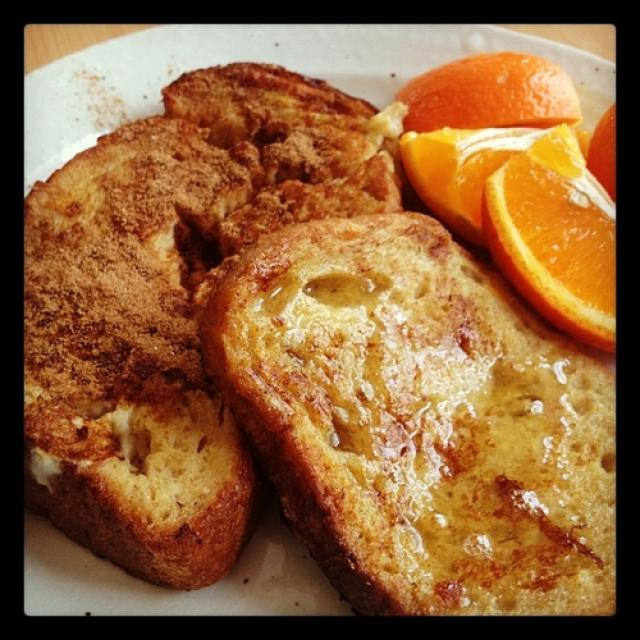面包点心: (27, 42, 603, 602)
